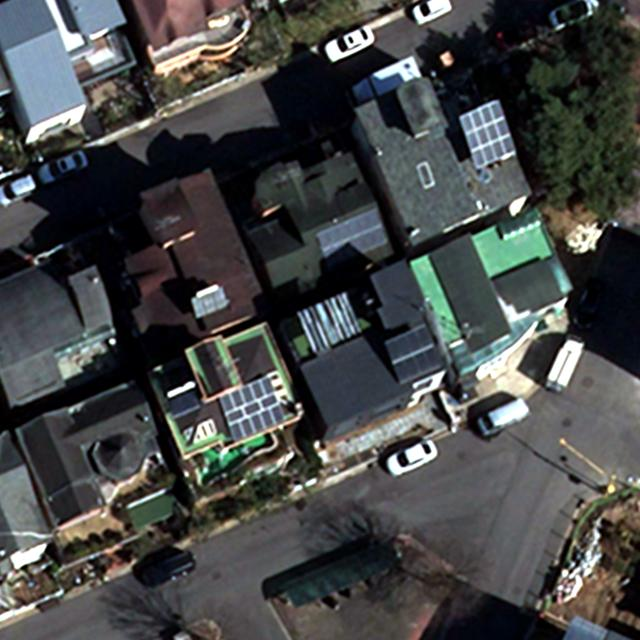panel: (459, 96, 519, 169), (383, 321, 451, 385), (216, 379, 281, 443)
